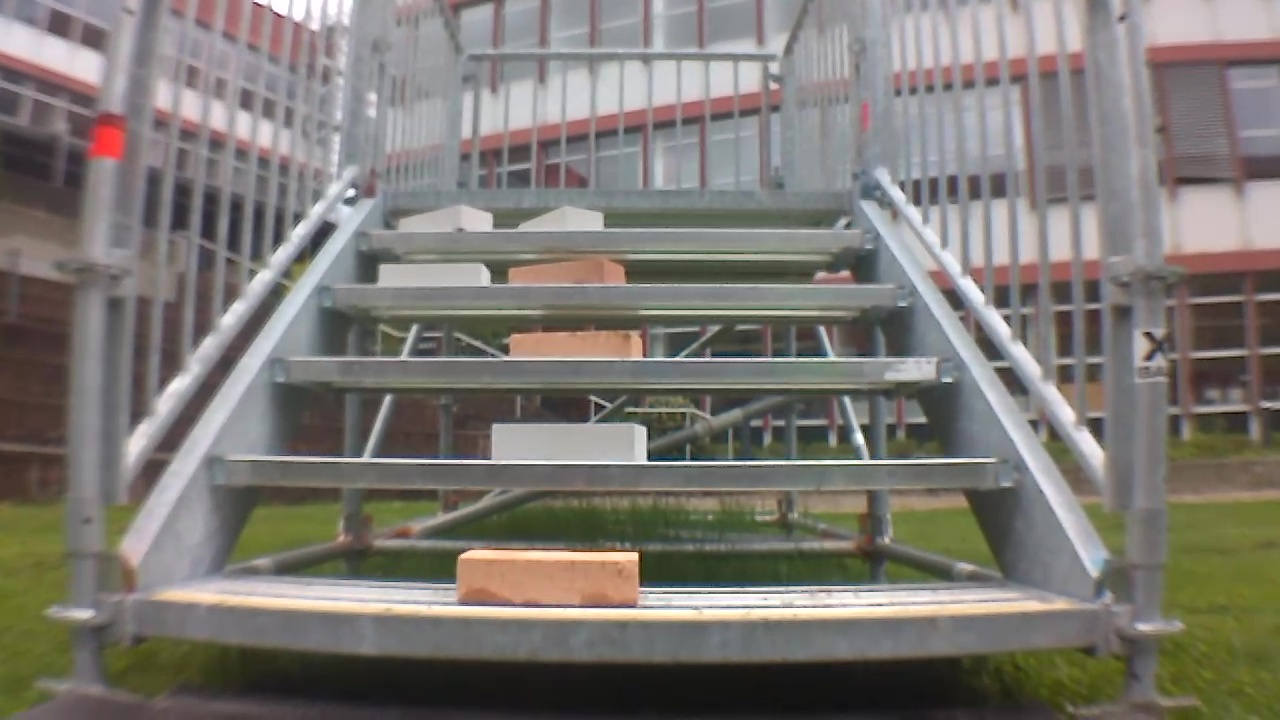brick: (457, 551, 639, 607), (492, 425, 646, 460), (511, 332, 642, 358), (507, 256, 622, 284), (380, 263, 488, 284), (398, 206, 490, 230), (519, 207, 602, 229)
edge: (137, 602, 1099, 660), (210, 457, 1015, 491), (271, 357, 955, 383), (318, 284, 917, 306), (358, 230, 874, 249), (383, 188, 853, 208)
stairs: (45, 4, 1188, 709)
steps: (123, 183, 1105, 668)
